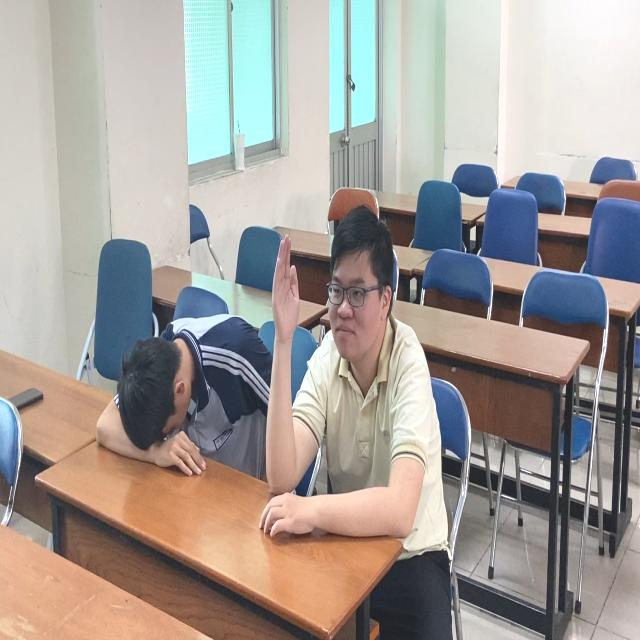raise_hand: (261, 184, 442, 558)
sleep: (101, 309, 268, 489)
